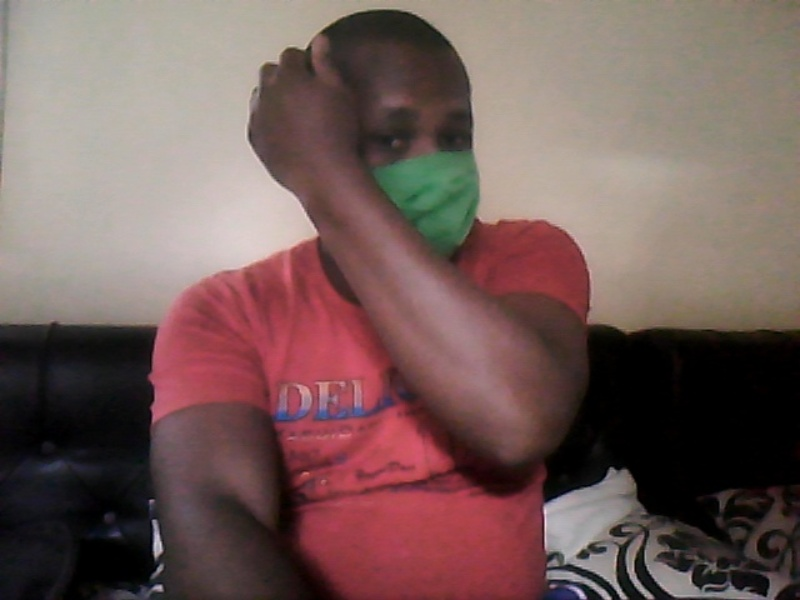ManaoArotava: (321, 16, 519, 268)
